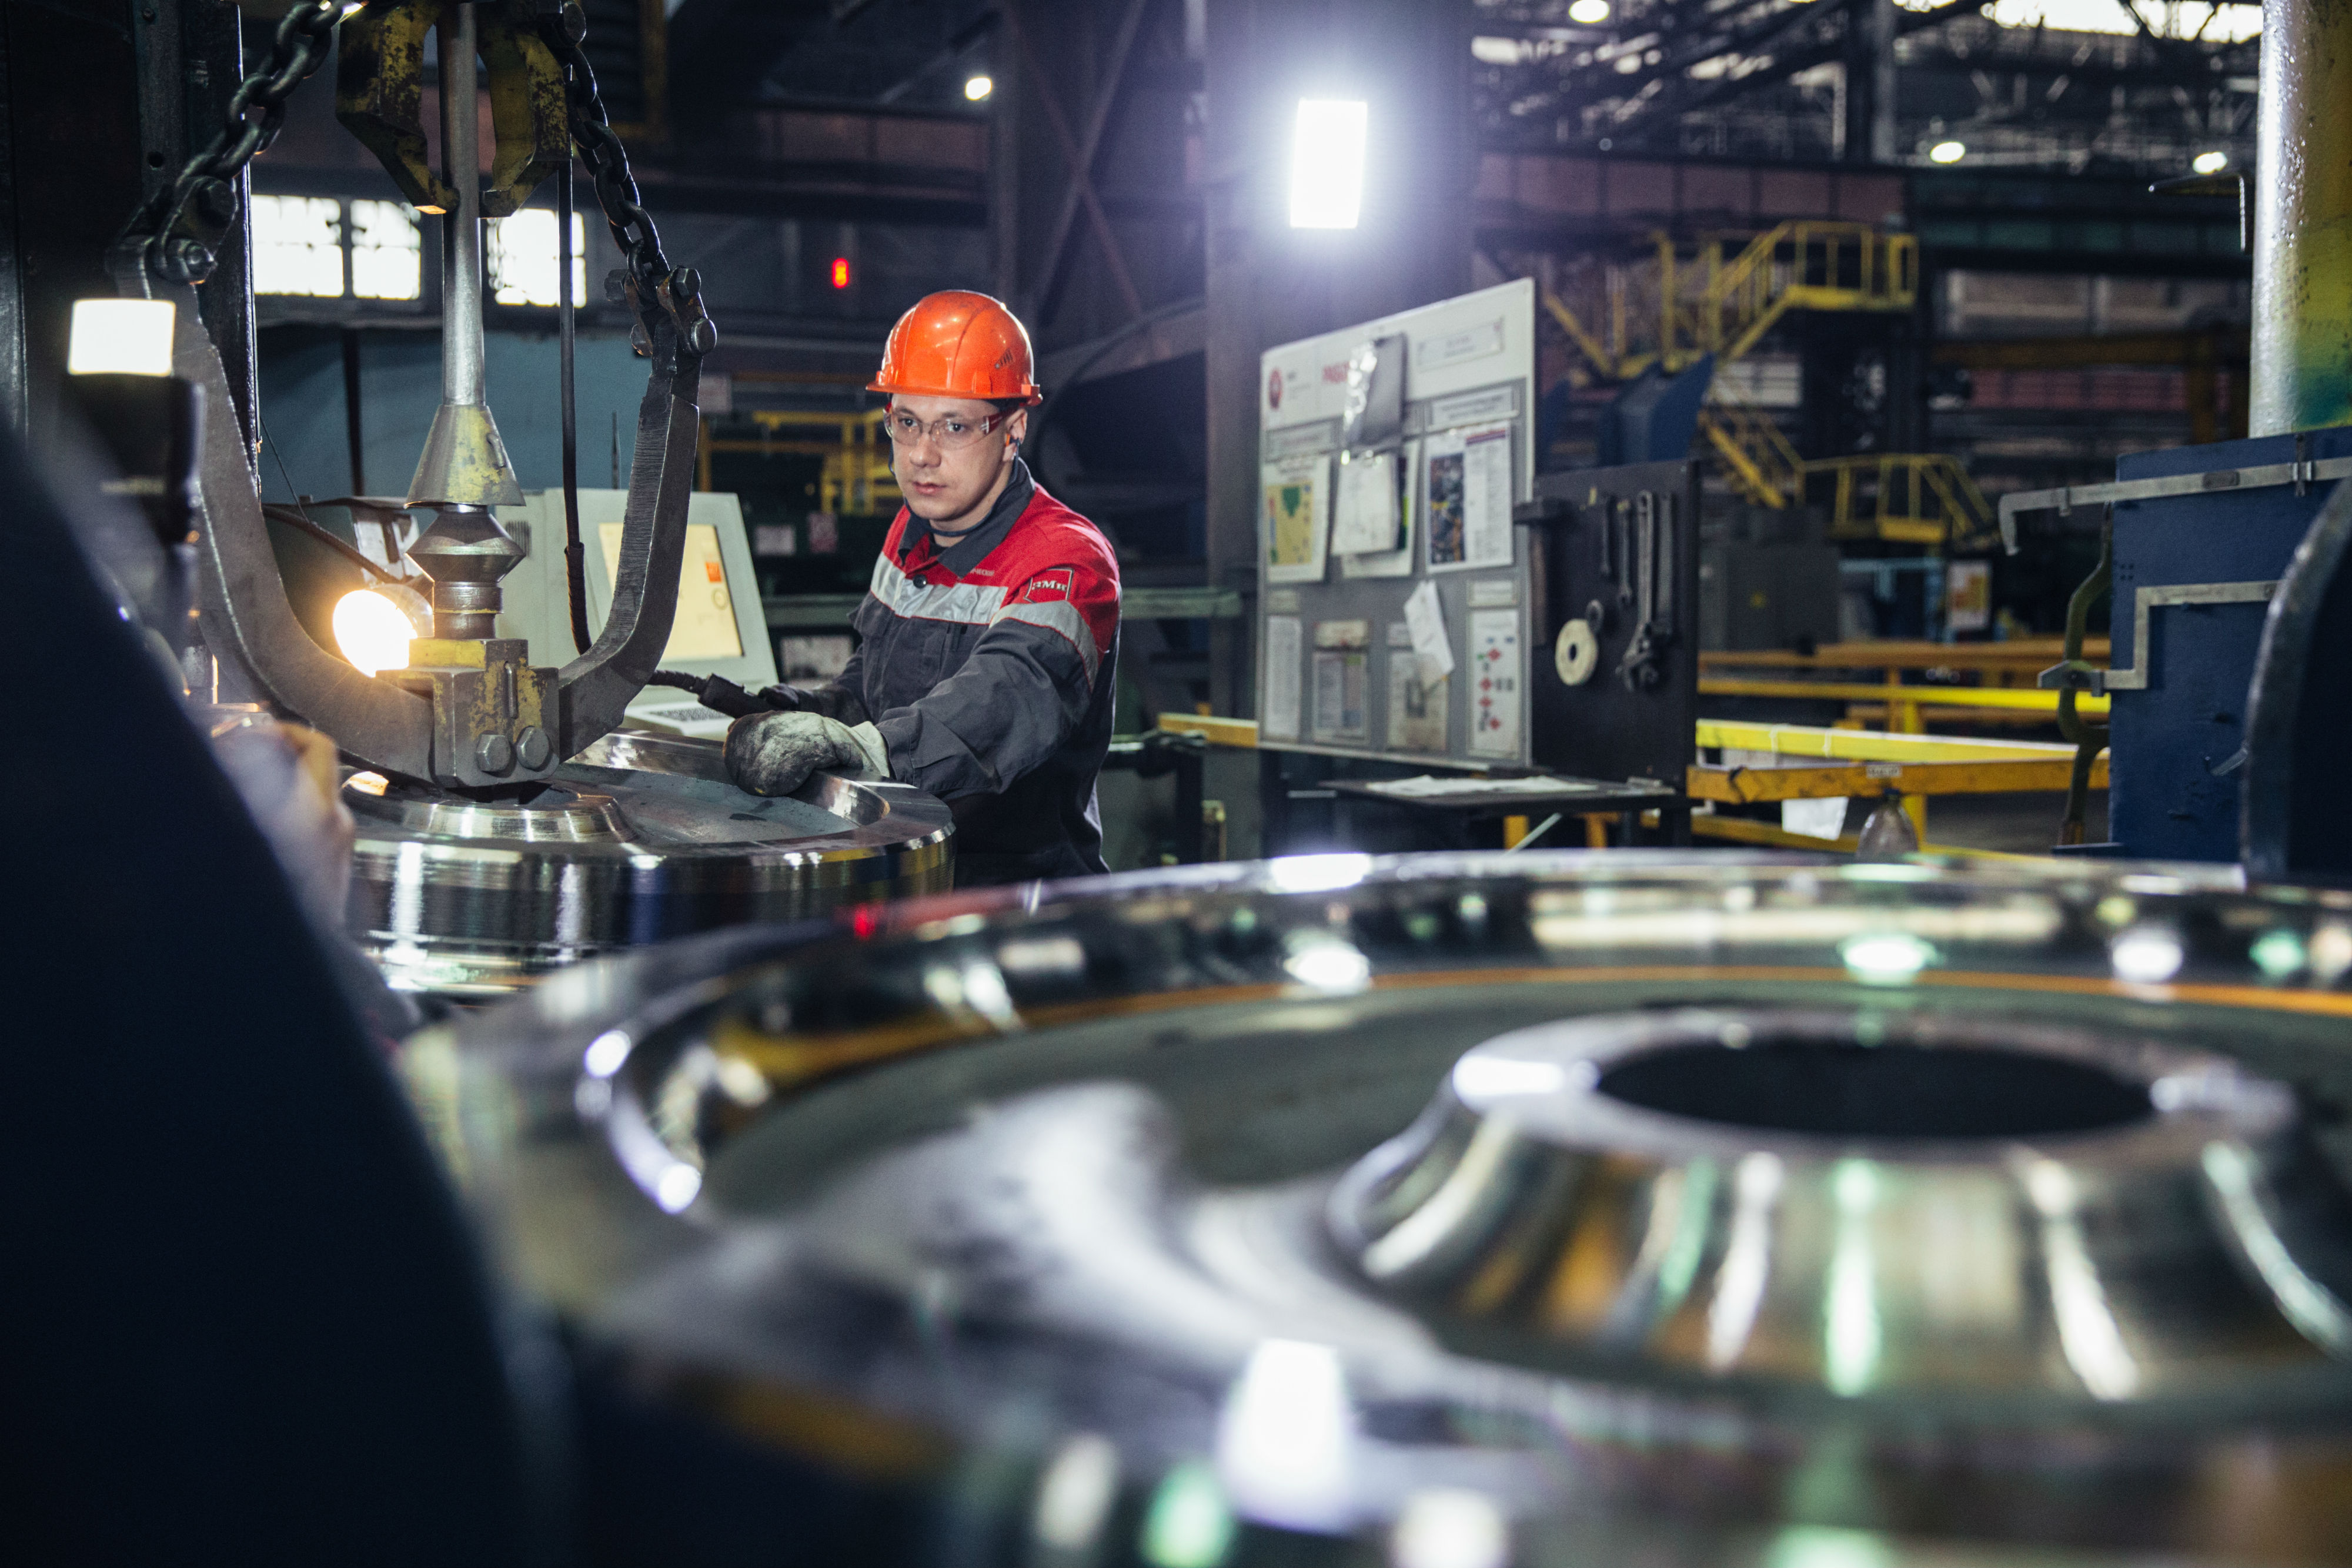person: (726, 290, 1114, 895)
